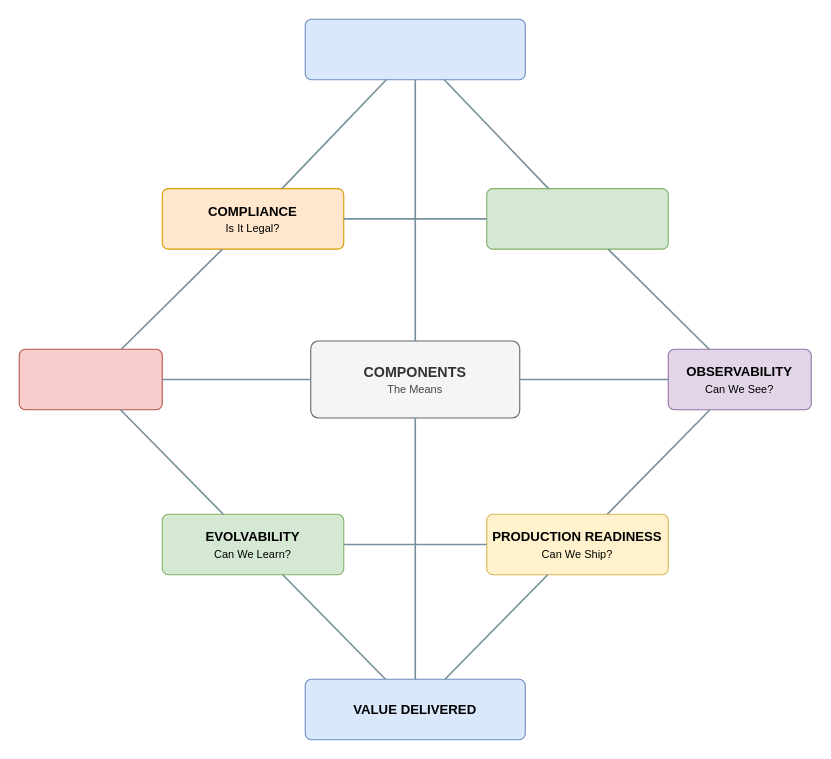
Some shapes in this 831 by 759 pixel diagram are drawn without their labels. Here are the shapes that lost their labels. From the top down, the centre of each, then its label:
At point (414, 49): "USE CASES What to Enable".
At point (577, 218): "QUALITIES How Well?".
At point (90, 379): "RISKS What If?".
